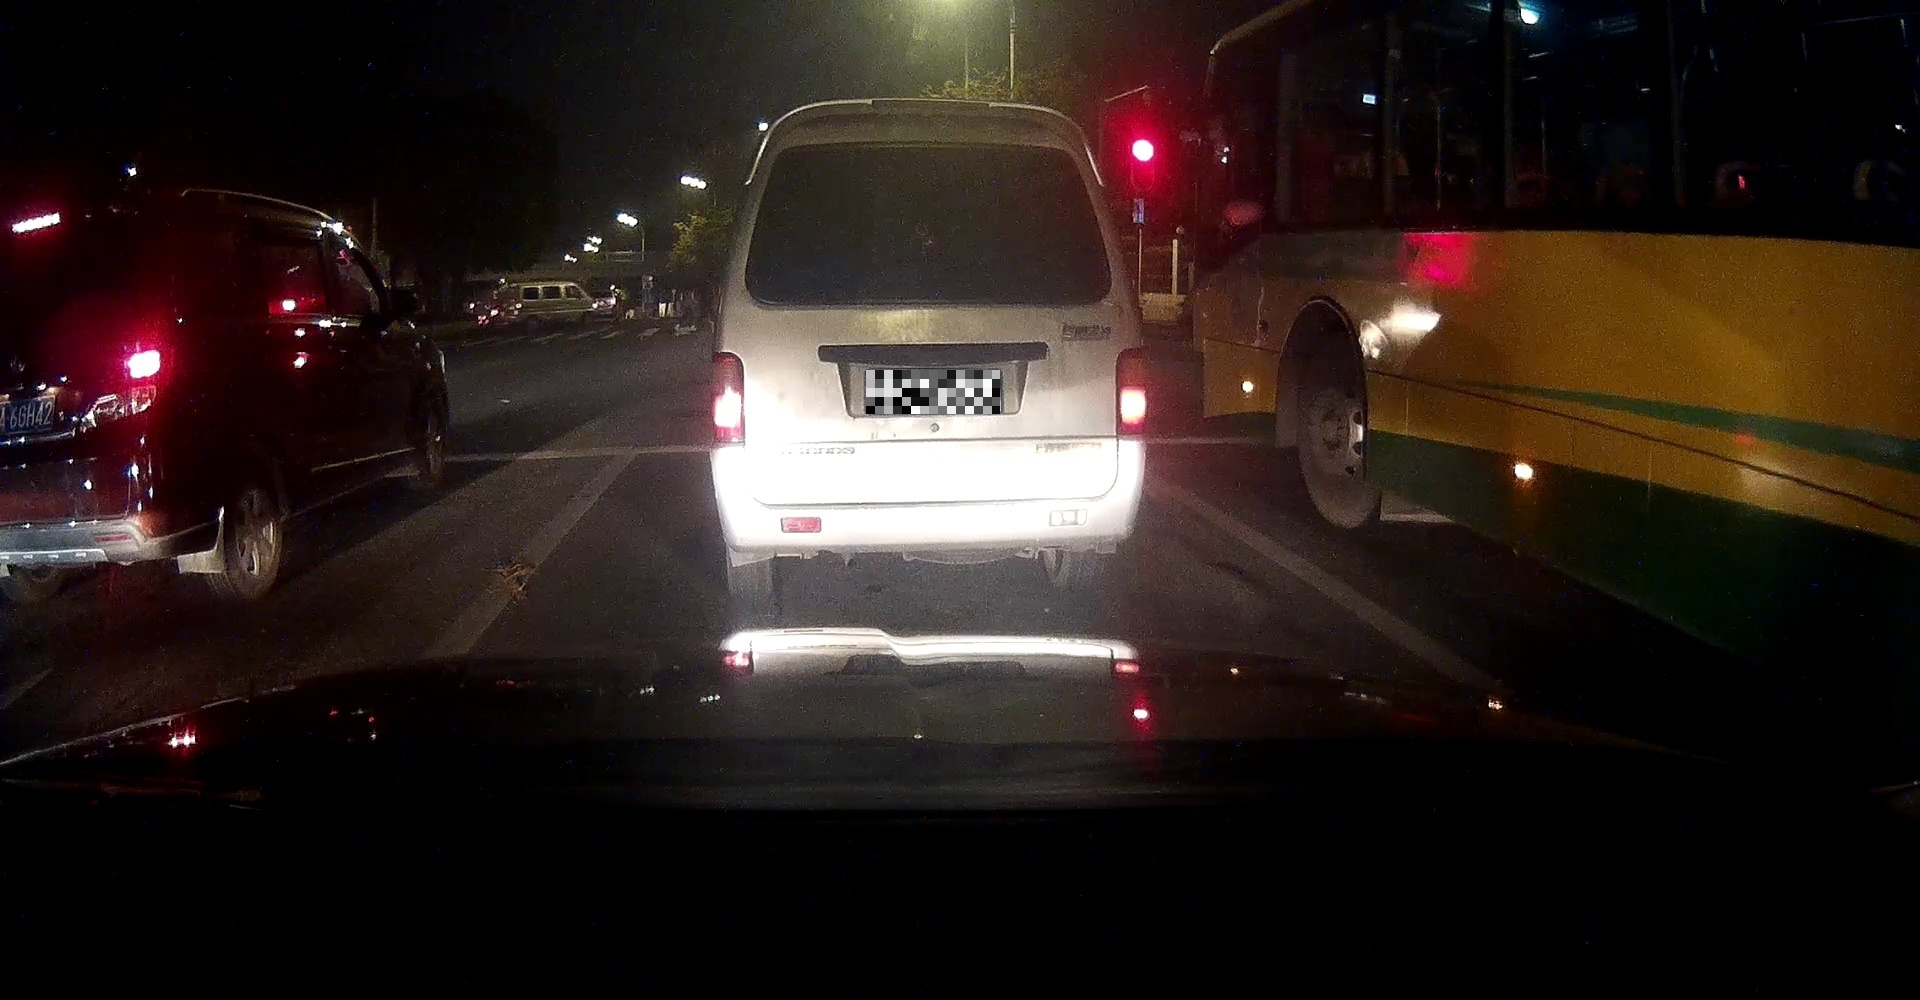L_light: (710, 352, 745, 445)
R_light: (1115, 346, 1145, 437)
T_light: (900, 140, 938, 154)
night-no: (710, 96, 1147, 605)
plate_1: (866, 371, 1001, 414)
